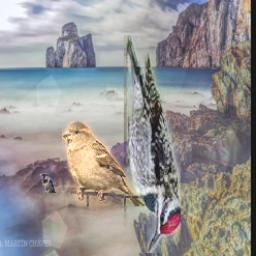Crow: (39, 174, 56, 194)
Sparrow: (62, 121, 145, 206)
Woodpecker: (125, 35, 182, 253)
